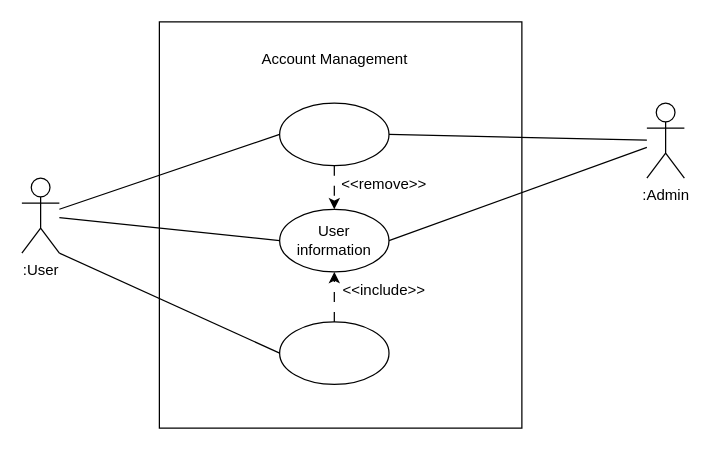
The diagram is 710 pixels wide and 460 high, and some of its shapes have lost their labels. The centre of each missing label's shape, as x and y in pixels:
Create Account: the point at 333,352
Delete account: the point at 333,134
